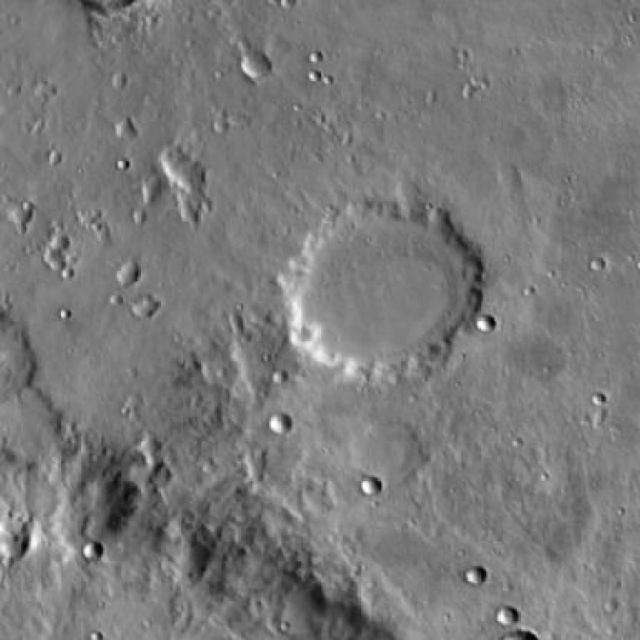crater: (282, 195, 486, 378), (153, 149, 198, 189), (115, 258, 142, 282), (178, 192, 205, 216), (135, 294, 157, 314), (272, 414, 294, 434), (82, 542, 103, 561), (466, 568, 488, 586), (362, 475, 382, 494), (140, 180, 160, 198), (116, 120, 135, 137), (499, 607, 518, 624), (478, 314, 496, 331), (52, 235, 70, 252), (15, 206, 30, 225), (45, 254, 64, 269)
